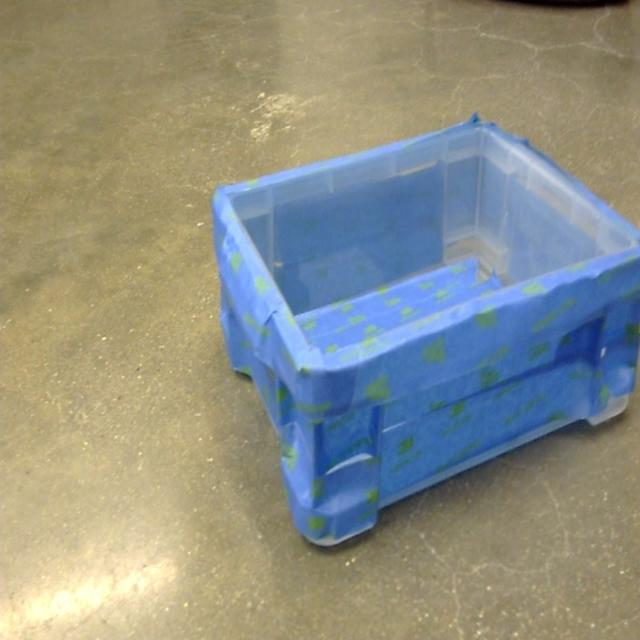bucket: (210, 115, 640, 552)
